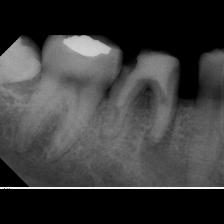apical_lesion: (77, 52, 181, 184)
